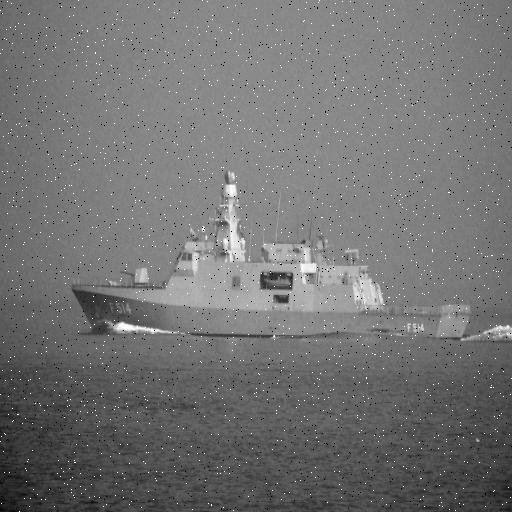Fragata: (66, 162, 473, 344)
